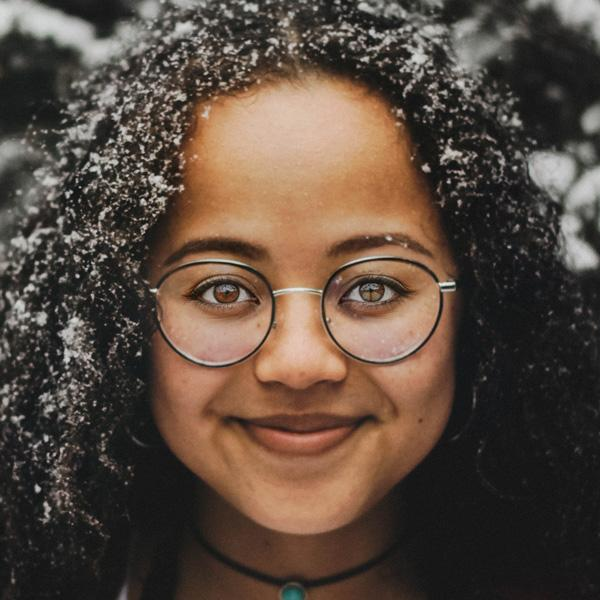Eyes: (179, 267, 265, 324), (333, 265, 418, 319)
